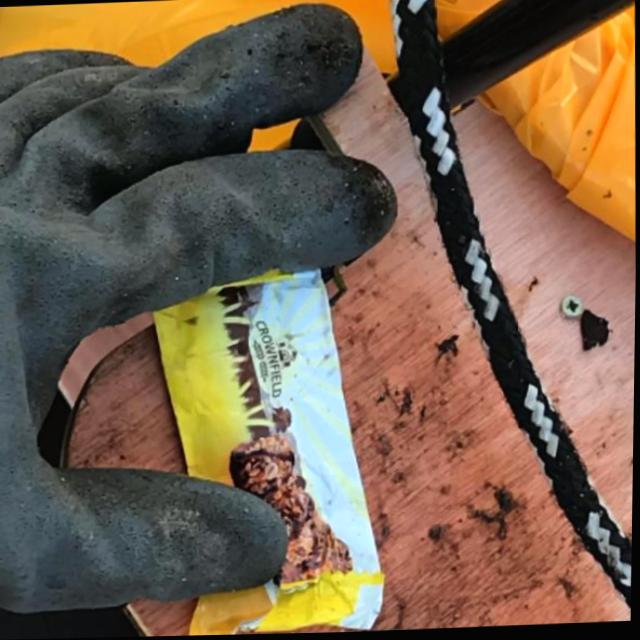Plastic: (142, 260, 391, 637)
